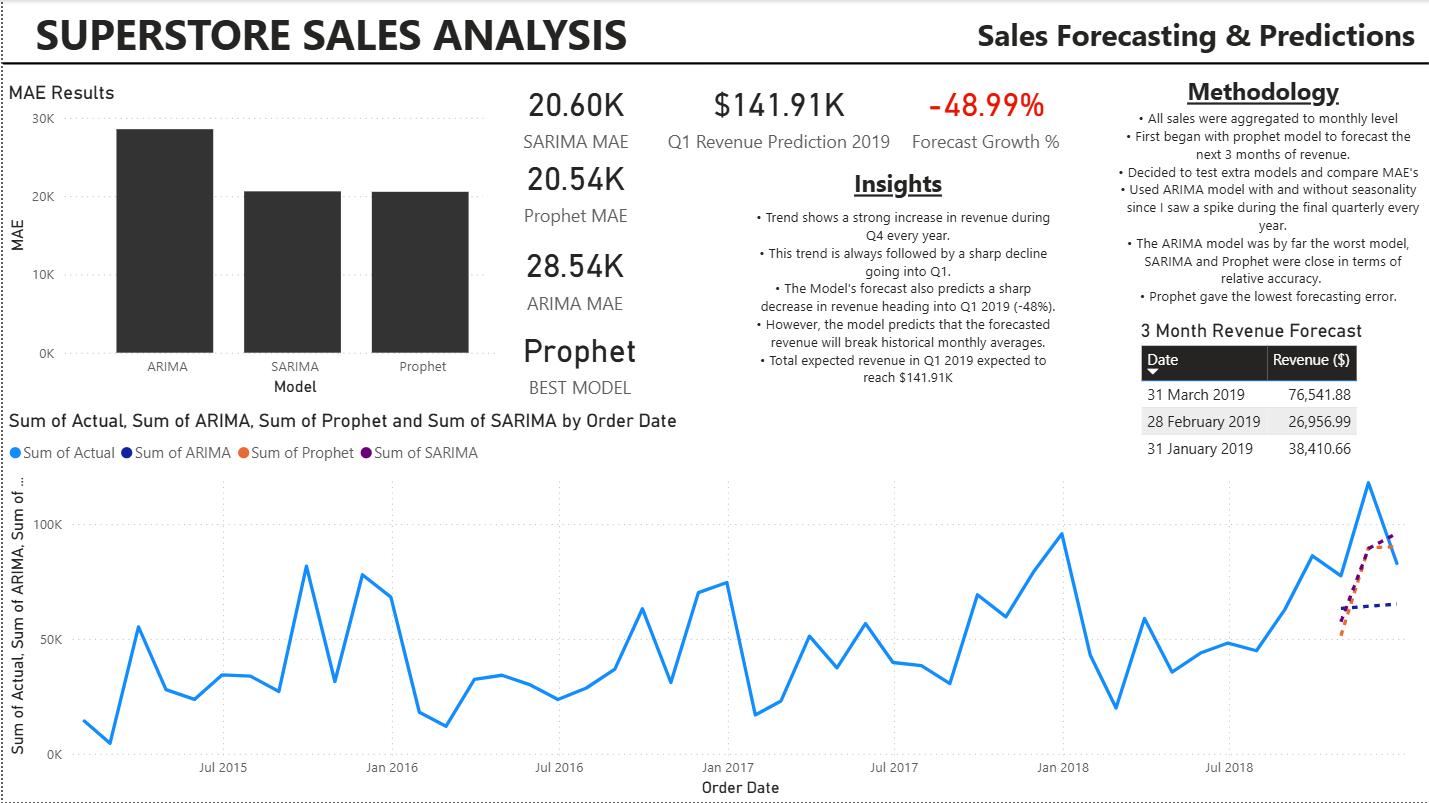

The dashboard page shown, as its layout file describes it:
{"tool":"powerbi","page":{"name":"Forecasting & Predictive Analytics","canvas":[1280,720],"ordinal":2},"visuals":[{"type":"textbox","box":[24.2,0,544.9,98.8],"z":0},{"type":"shape","box":[0,40,1280,33],"z":1000},{"type":"textbox","box":[982.1,92.5,298.1,193.9],"z":2000},{"type":"textbox","box":[1039.6,61.9,183.1,47.6],"z":3000},{"type":"textbox","box":[869.9,7.2,410.3,49.4],"z":4000},{"type":"lineChart","fields":{"Y":["Sum(forecast_results_full.Actual)","Sum(forecast_results_full.ARIMA)","Sum(forecast_results_full.Prophet)","Sum(forecast_results_full.SARIMA)"],"Category":["forecast_results_full.Order Date"]},"box":[0,367.2,1278.4,352.8],"z":5000},{"type":"tableEx","title":"3 Month Revenue Forecast","fields":{"Values":["predictions.Date","Sum(predictions.Sales)"]},"box":[1016.3,286.4,229.8,141.8],"z":6000},{"type":"card","fields":{"Values":["Sum(predictions.Sales)"]},"box":[589.8,61.9,213.7,80.8],"z":7000},{"type":"group","id":"g1","title":"Group 2","box":[0,61.9,597,298.1],"z":8000},{"type":"clusteredColumnChart","title":"MAE Results","fields":{"Y":["Sum(mae_results.MAE)"],"Category":["mae_results.Model"]},"box":[0,72.6,473.7,286.9],"z":8000,"group":"g1"},{"type":"group","id":"g2","title":"Group 1","box":[430.9,61.9,166.3,297.4],"z":9000,"group":"g1"},{"type":"card","fields":{"Values":["forecast results.Forecast Growth %"]},"box":[803.5,66.4,157.1,71.8],"z":9000},{"type":"textbox","box":[711.9,144.5,183.1,47.6],"z":10000},{"type":"textbox","box":[654.5,181.3,298.1,193.9],"z":11000},{"type":"card","fields":{"Values":["mae_results.ARIMA MAE"]},"box":[433.8,208.8,159.5,76.8],"z":14000,"group":"g2"},{"type":"card","fields":{"Values":["mae_results.BEST MODEL"]},"box":[443.4,287.3,148.8,72],"z":15000,"group":"g2"},{"type":"card","fields":{"Values":["mae_results.Prophet MAE"]},"box":[430.9,129,166.3,79.8],"z":16000,"group":"g2"},{"type":"card","fields":{"Values":["mae_results.SARIMA MAE"]},"box":[433.8,61.9,161.5,80.7],"z":17000,"group":"g2"}]}

Visuals, with their boxes in screenshot pixels (x1, y1, x2, y2), scaled from the page's 1280x720 canvas onto the 1429x803 screenshot:
textbox: x1=27, y1=0, x2=635, y2=110
shape: x1=0, y1=45, x2=1428, y2=81
textbox: x1=1096, y1=103, x2=1428, y2=319
textbox: x1=1161, y1=69, x2=1365, y2=122
textbox: x1=971, y1=8, x2=1428, y2=63
lineChart - Sum(forecast_results_full.Actual) x Sum(forecast_results_full.ARIMA): x1=0, y1=410, x2=1427, y2=802
"3 Month Revenue Forecast" tableEx: x1=1135, y1=319, x2=1391, y2=478
card - Sum(predictions.Sales): x1=658, y1=69, x2=897, y2=159
"Group 2" group: x1=0, y1=69, x2=666, y2=402
"MAE Results" clusteredColumnChart: x1=0, y1=81, x2=529, y2=401
"Group 1" group: x1=481, y1=69, x2=667, y2=401
card - forecast results.Forecast Growth %: x1=897, y1=74, x2=1072, y2=154
textbox: x1=795, y1=161, x2=999, y2=214
textbox: x1=731, y1=202, x2=1063, y2=418
card - mae_results.ARIMA MAE: x1=484, y1=233, x2=662, y2=319
card - mae_results.BEST MODEL: x1=495, y1=320, x2=661, y2=401
card - mae_results.Prophet MAE: x1=481, y1=144, x2=667, y2=233
card - mae_results.SARIMA MAE: x1=484, y1=69, x2=665, y2=159
